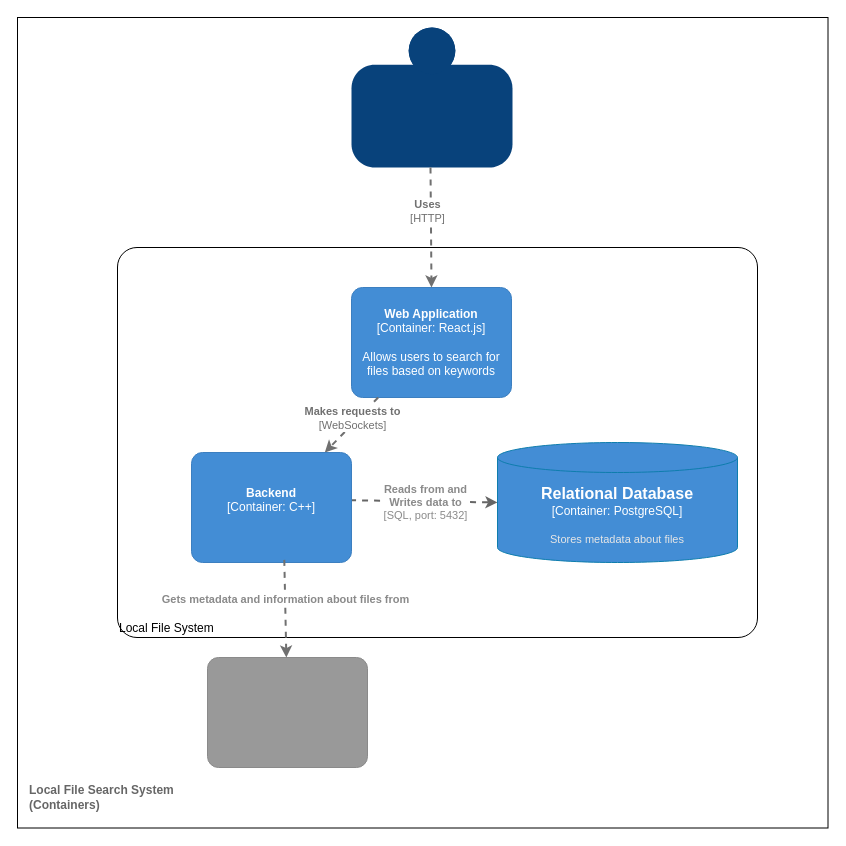
The diagram is 846 pixels wide and 846 high, and some of its shapes have lost their labels. Here are the shapes that lost their labels. From the top down, the centre of each, then its label:
At (431,97): "User [Person] Searches for local files".
At (287,712): "Local File System [Software System] OS file system".
